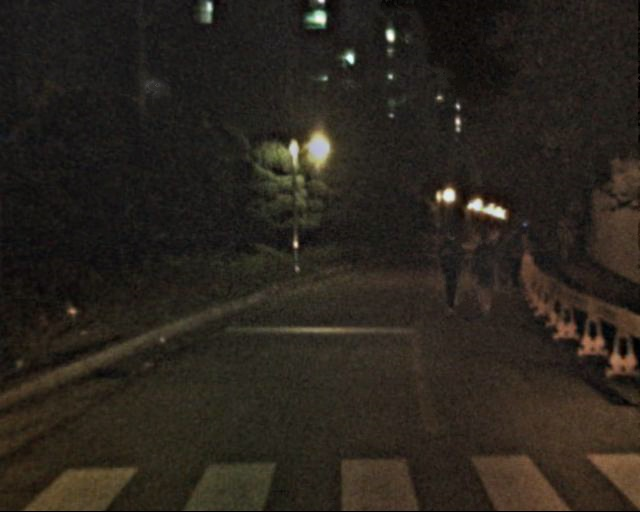person: (434, 229, 470, 316), (469, 234, 504, 319), (492, 233, 515, 289), (507, 231, 529, 285)
